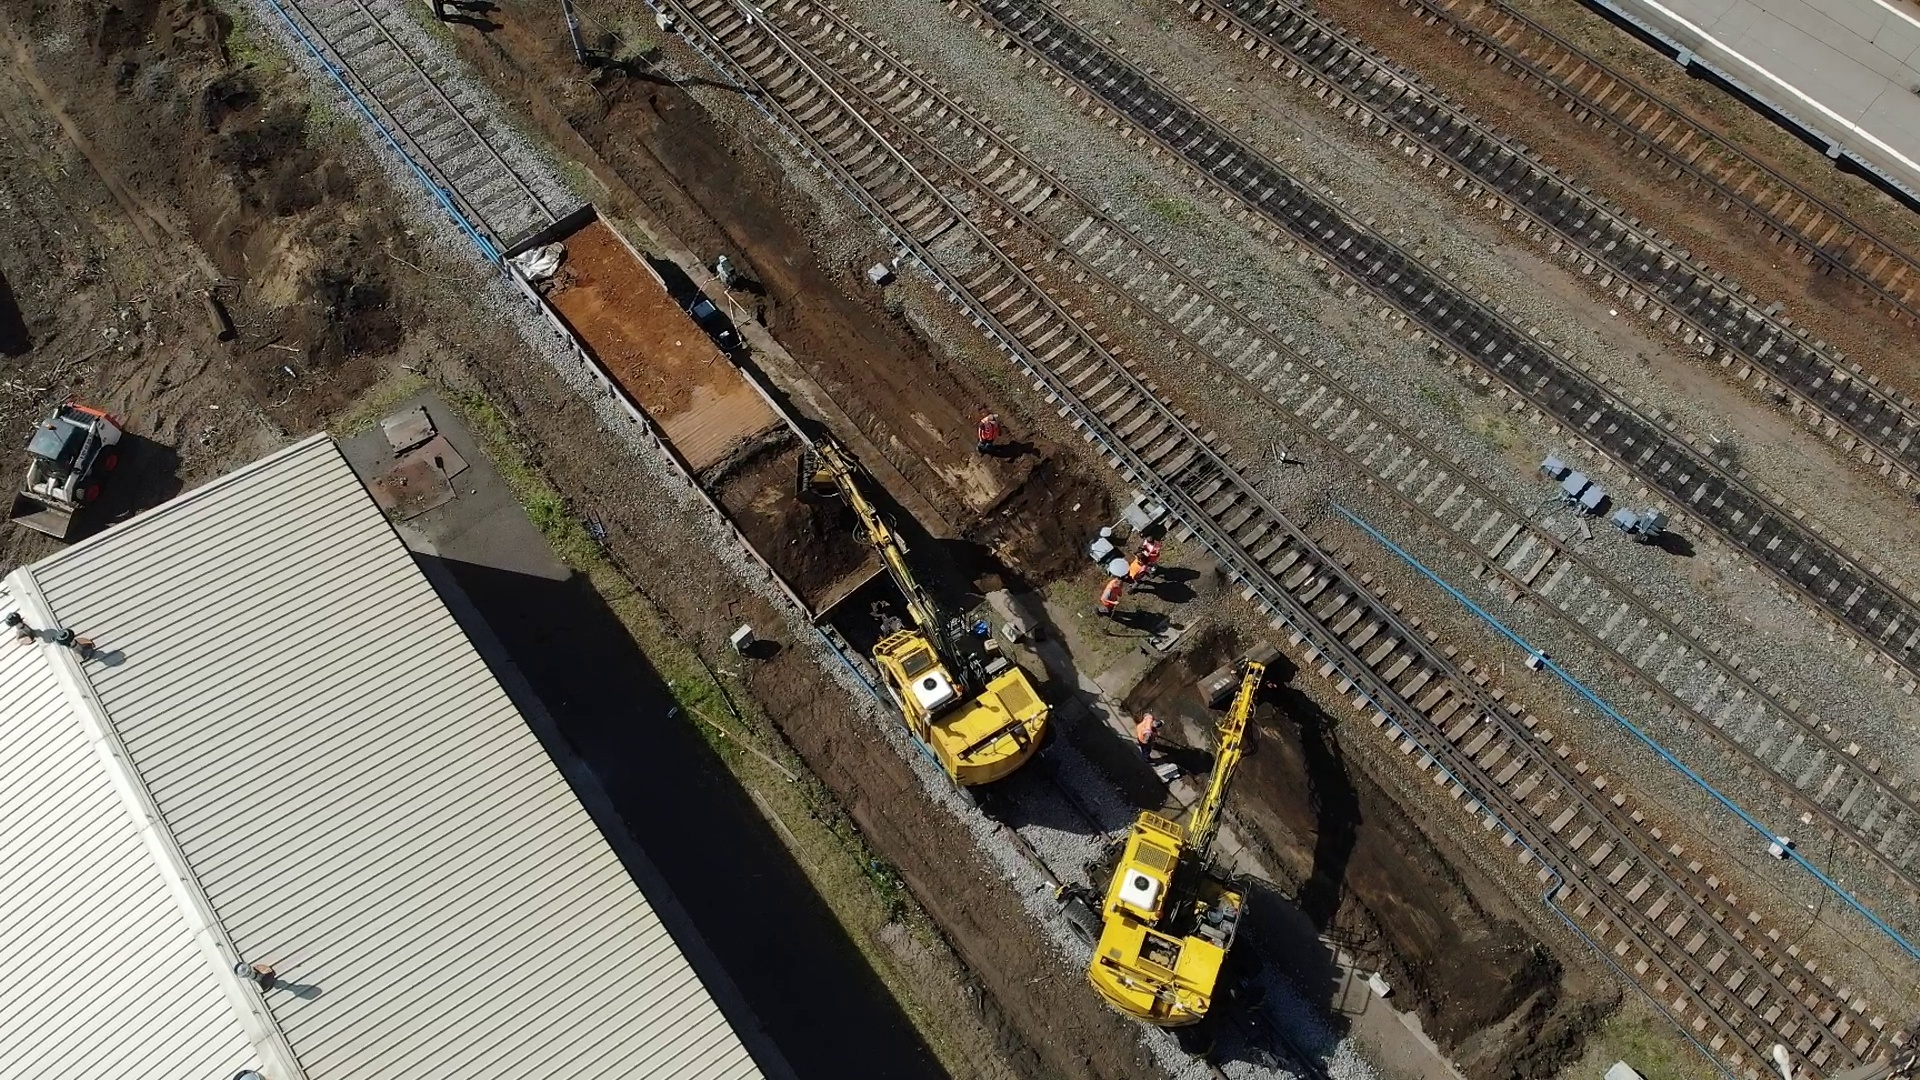kjtv: (1088, 722, 1253, 1032), (868, 532, 1044, 784)
